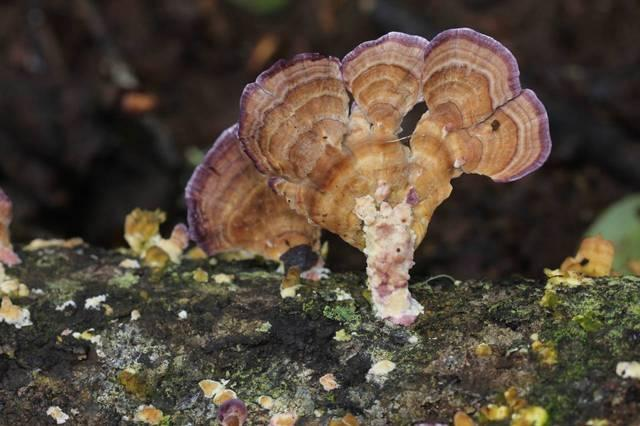Non-edible Mushroom: (184, 25, 553, 327)
